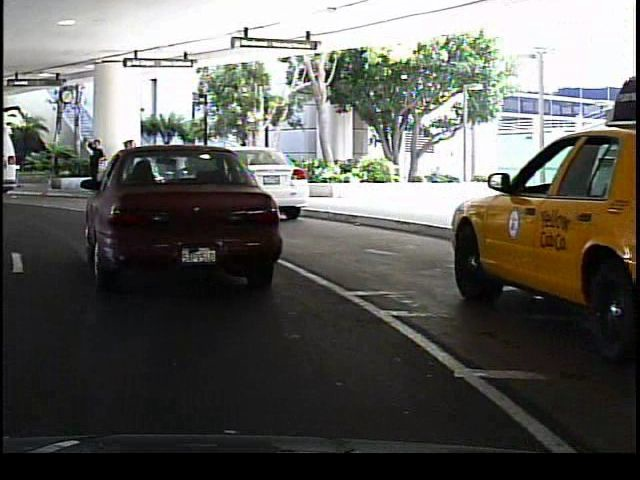person: (116, 139, 141, 196), (163, 143, 191, 193), (79, 138, 103, 194)
